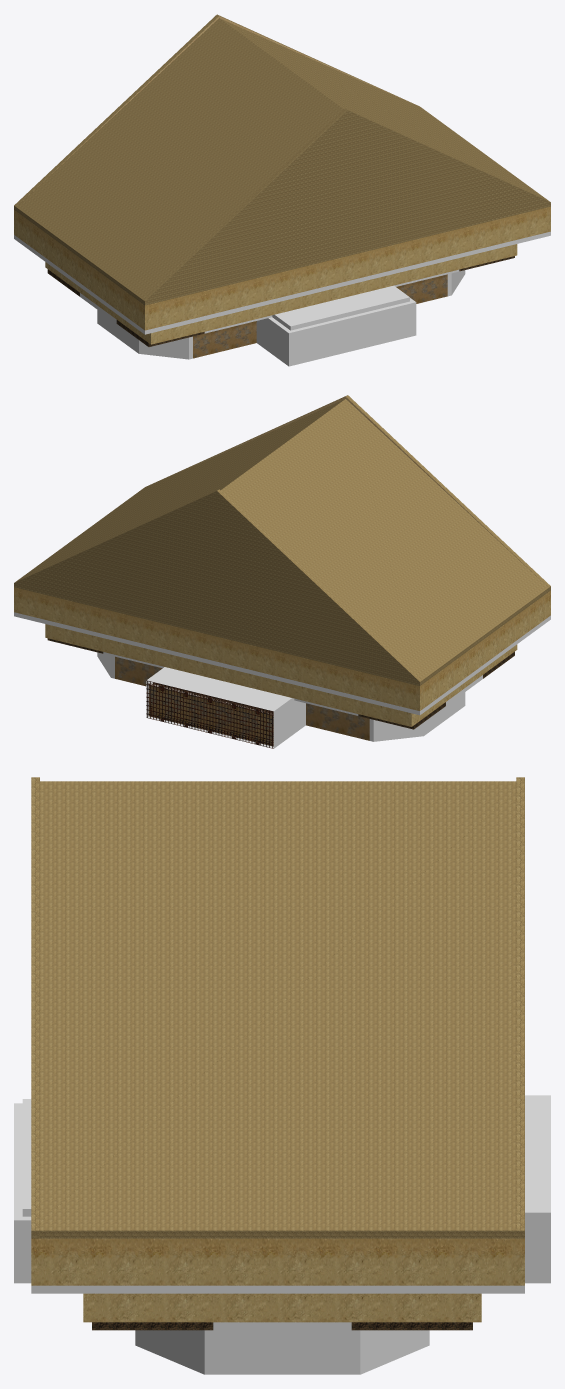
File: arena1.fbx
The picture shows the model from 3 angles, top to bottom: view 1: azimuth 30°, elevation 25°; view 2: azimuth 150°, elevation 25°; view 3: azimuth 270°, elevation 25°; orthographic projection. The views are drawn at different scales.
Parts seen in each view (by area): view 1: Mesh_026, Mesh_027, Mesh_040, Mesh_013, Mesh_045, Mesh_018, Mesh_041, Mesh_038, Mesh_012, Mesh_022, Mesh_056, Mesh_043 (+4 smaller); view 2: Mesh_026, Mesh_012, Mesh_039, Mesh_013, Mesh_019, Mesh_008, Mesh_041, Mesh_009, Mesh_027, Mesh_024, Mesh_049, Mesh_011 (+4 smaller); view 3: Mesh_013, Mesh_042, Mesh_036, Mesh_021, Mesh_027, Mesh_012, Mesh_020, Mesh_015, Mesh_009, Mesh_032, Mesh_031, Mesh_050 (+8 smaller).
Part boxes in pixels (x1=…): Mesh_026: x1=14, y1=18, x2=347, y2=305; Mesh_027: x1=142, y1=108, x2=550, y2=305; Mesh_040: x1=149, y1=207, x2=546, y2=329; Mesh_013: x1=220, y1=18, x2=550, y2=206; Mesh_045: x1=286, y1=300, x2=416, y2=366; Mesh_018: x1=148, y1=244, x2=517, y2=344; Mesh_041: x1=14, y1=210, x2=148, y2=330; Mesh_038: x1=272, y1=285, x2=409, y2=330; Mesh_012: x1=14, y1=14, x2=421, y2=209; Mesh_022: x1=193, y1=321, x2=256, y2=358; Mesh_056: x1=212, y1=247, x2=487, y2=317; Mesh_043: x1=256, y1=317, x2=289, y2=364; Mesh_026: x1=217, y1=399, x2=550, y2=685; Mesh_012: x1=14, y1=489, x2=421, y2=685; Mesh_039: x1=18, y1=588, x2=415, y2=709; Mesh_013: x1=14, y1=399, x2=344, y2=586; Mesh_019: x1=45, y1=624, x2=413, y2=726; Mesh_008: x1=146, y1=683, x2=275, y2=748; Mesh_041: x1=416, y1=590, x2=550, y2=710; Mesh_009: x1=146, y1=667, x2=294, y2=715; Mesh_027: x1=143, y1=395, x2=550, y2=587; Mesh_024: x1=306, y1=703, x2=369, y2=740; Mesh_049: x1=81, y1=629, x2=356, y2=699; Mesh_011: x1=272, y1=700, x2=305, y2=746; Mesh_013: x1=31, y1=781, x2=524, y2=1238; Mesh_042: x1=31, y1=1238, x2=524, y2=1285; Mesh_036: x1=213, y1=1330, x2=351, y2=1374; Mesh_021: x1=213, y1=1293, x2=351, y2=1322; Mesh_027: x1=31, y1=777, x2=39, y2=1238; Mesh_012: x1=516, y1=777, x2=524, y2=1230; Mesh_020: x1=351, y1=1293, x2=472, y2=1322; Mesh_015: x1=92, y1=1293, x2=213, y2=1322; Mesh_009: x1=525, y1=1095, x2=550, y2=1220; Mesh_032: x1=135, y1=1330, x2=213, y2=1374; Mesh_031: x1=351, y1=1330, x2=429, y2=1374; Mesh_050: x1=187, y1=1285, x2=386, y2=1293.
Bounding box in the file's own units: 261 × 146 × 159.
Materials: 19 (11 with a texture image).
